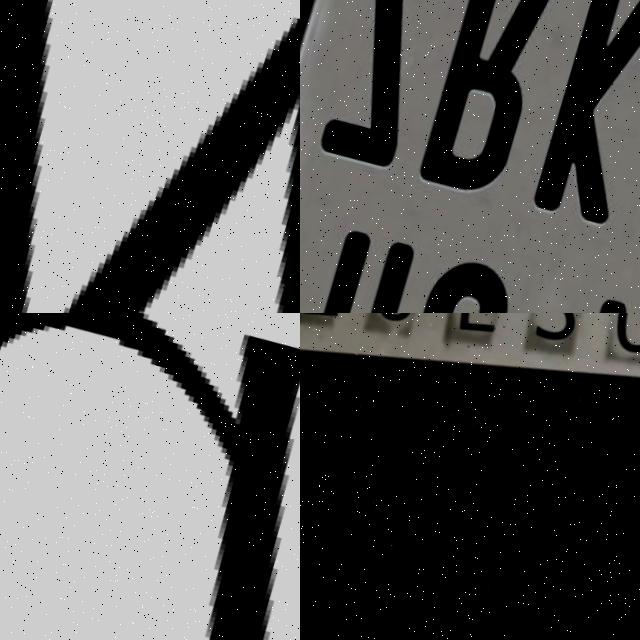0: (585, 313, 640, 382), (347, 313, 433, 347)
2: (503, 313, 601, 372)
5: (426, 313, 515, 358)
6: (361, 254, 524, 313)
H: (300, 221, 422, 313)
K: (521, 0, 640, 236)
N: (0, 0, 300, 313)
R: (408, 0, 566, 203)
U: (0, 313, 300, 640)
Z: (310, 0, 467, 181)
